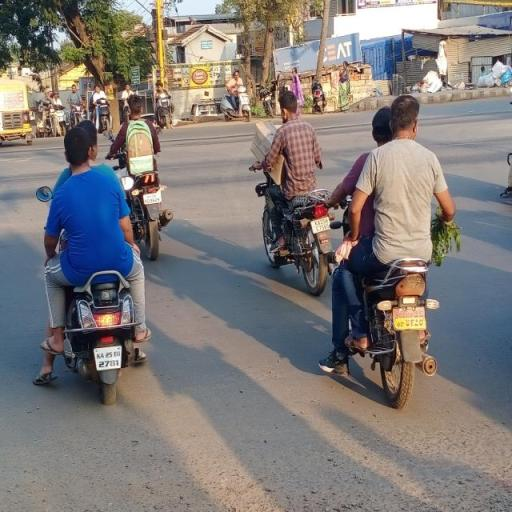bike: (23, 113, 157, 406)
numberplate: (90, 345, 128, 371)
withouthelmet: (64, 130, 90, 166), (78, 120, 100, 154)
